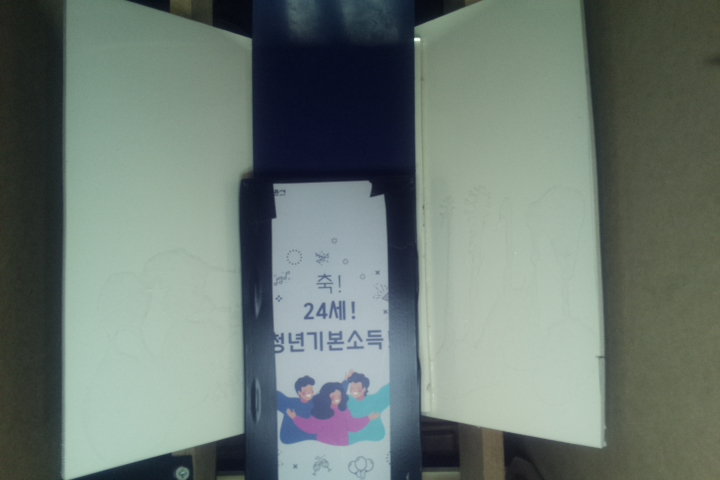book: (239, 175, 423, 480)
